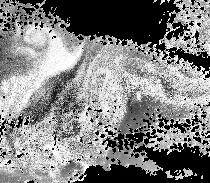CE: (22, 23, 55, 48)
